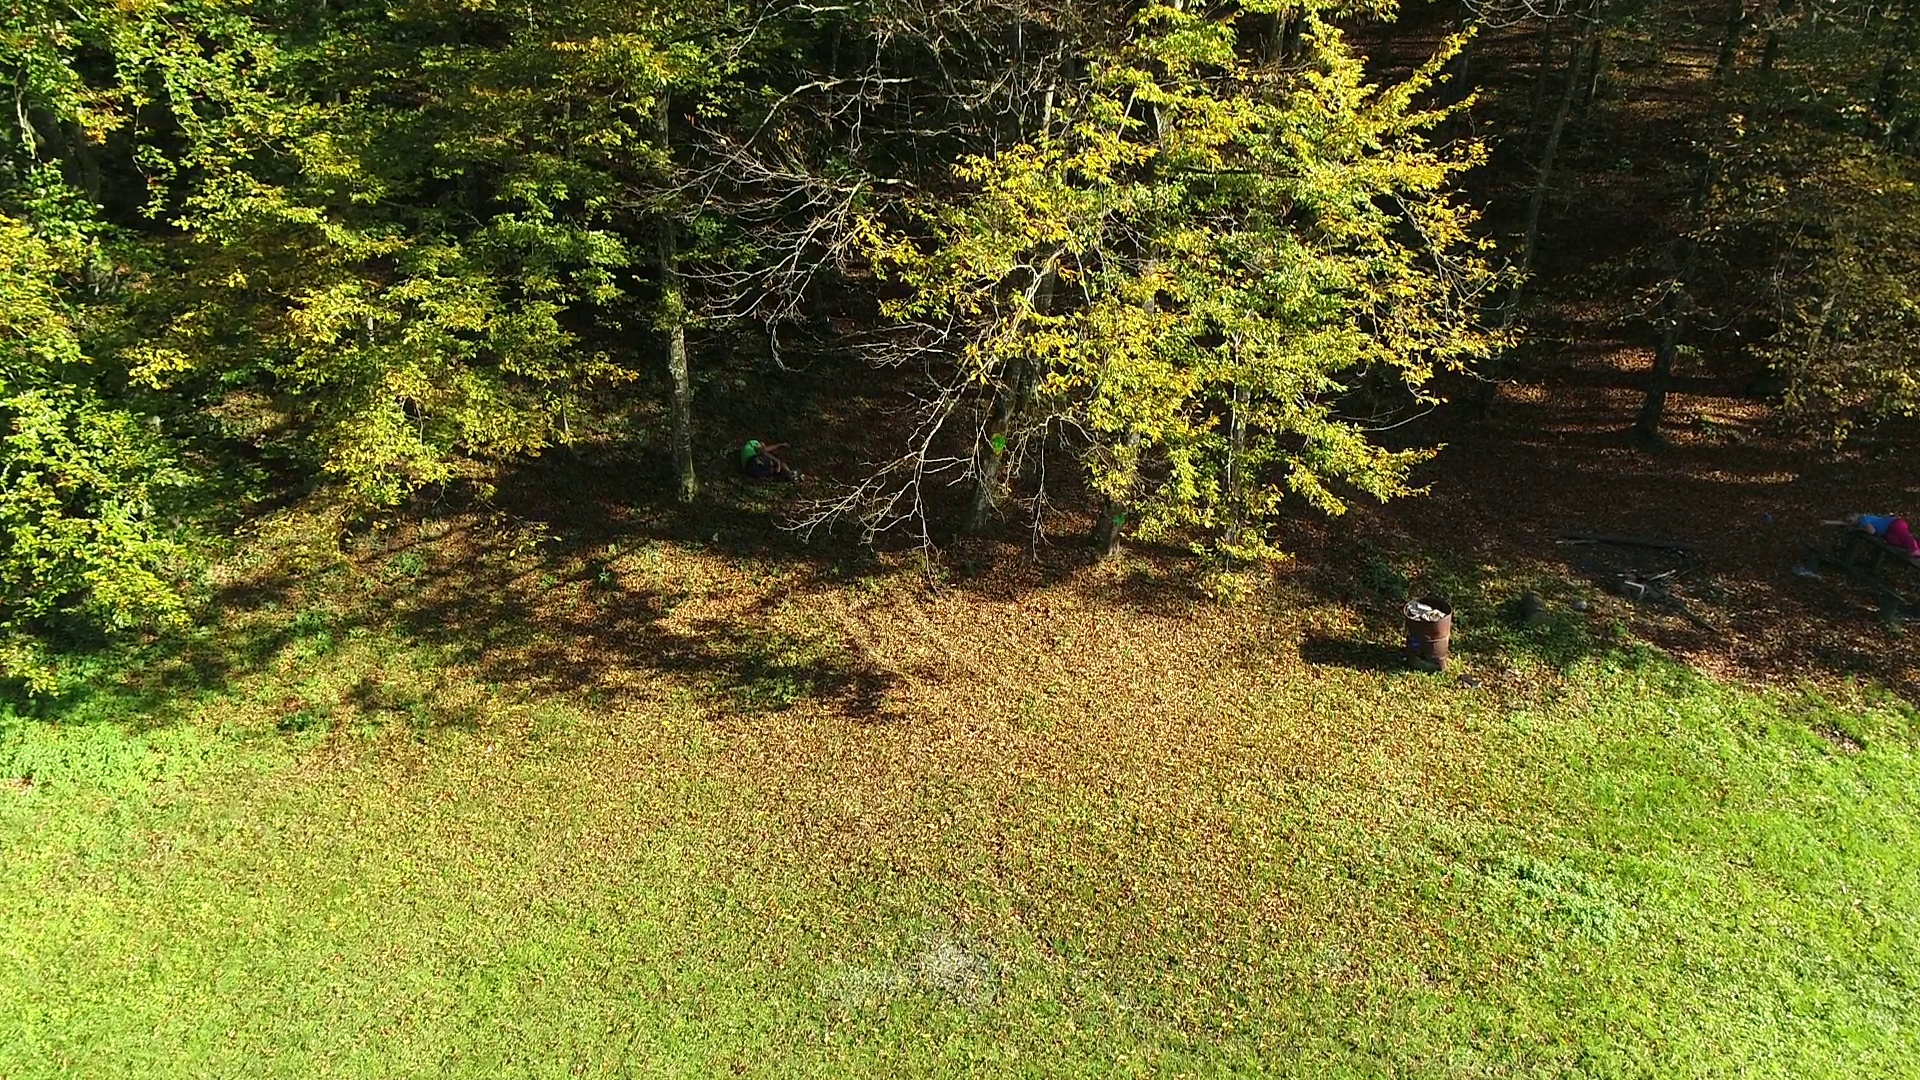person: (1818, 512, 1920, 560), (742, 438, 799, 484)
